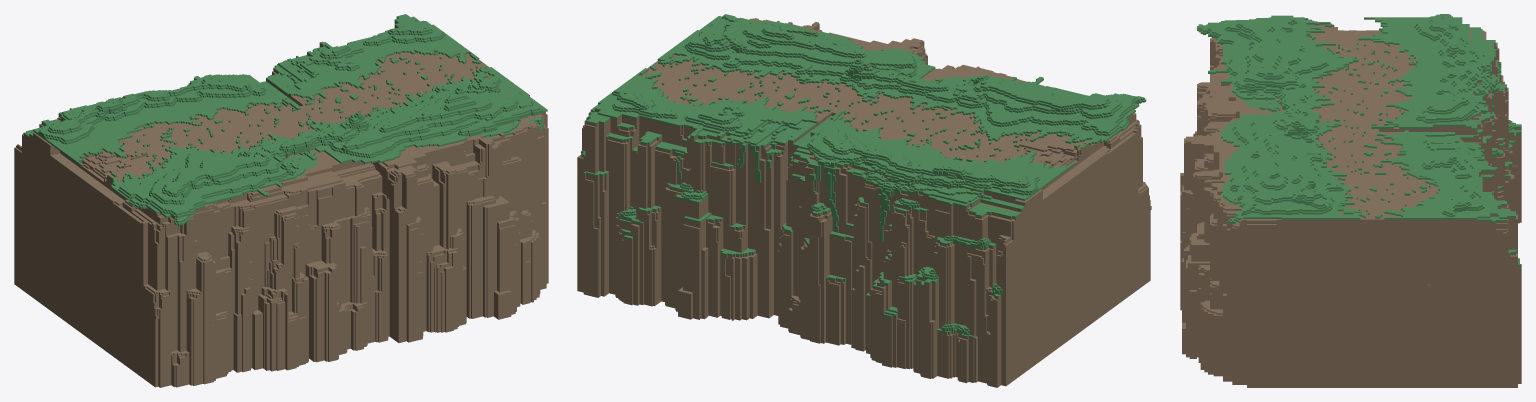
File: Cubeland-18.obj
3 views of the same model, side by side, from view 1: azimuth 30°, elevation 25°; view 2: azimuth 150°, elevation 25°; view 3: azimuth 270°, elevation 25° (orthographic). The views are drawn at different scales.
Bounding box in the file's own units: 25.6 × 11.1 × 18.4.
1 material, 1 textured.
